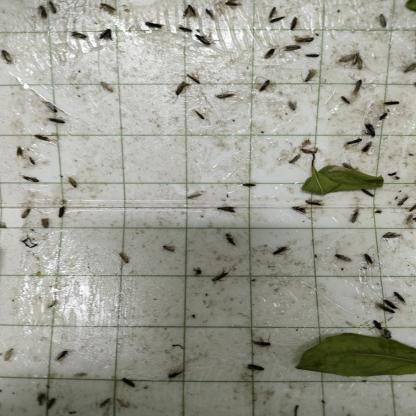prays_oleae: (250, 322, 272, 354), (17, 168, 46, 188), (169, 365, 191, 391), (337, 245, 355, 274), (144, 17, 165, 41), (36, 91, 60, 112), (270, 239, 291, 263), (120, 366, 135, 398), (344, 130, 366, 151), (173, 74, 190, 101), (243, 358, 268, 376), (344, 44, 364, 66), (117, 248, 135, 272), (214, 85, 235, 105), (187, 65, 201, 94), (258, 75, 274, 99), (217, 198, 237, 217), (66, 171, 80, 198), (363, 116, 381, 137), (212, 266, 229, 288), (399, 56, 416, 78), (160, 239, 176, 262), (94, 2, 118, 17), (43, 390, 61, 410), (284, 41, 305, 58), (30, 130, 52, 146), (363, 244, 376, 271), (350, 73, 364, 98), (382, 293, 396, 318), (240, 175, 259, 193), (100, 28, 118, 46), (393, 282, 407, 305), (294, 30, 314, 46), (55, 343, 70, 364), (382, 231, 403, 246), (56, 200, 68, 226), (306, 194, 322, 213), (175, 19, 190, 39), (376, 10, 390, 31), (292, 202, 308, 220), (1, 46, 12, 72), (43, 113, 68, 124), (397, 188, 408, 213), (349, 206, 362, 227), (194, 35, 212, 50), (226, 224, 236, 250), (300, 141, 315, 158), (384, 94, 398, 112), (286, 149, 300, 167), (98, 394, 115, 408), (15, 208, 36, 219), (341, 91, 352, 112), (290, 13, 300, 36), (40, 216, 52, 235), (36, 6, 49, 23), (66, 30, 86, 41), (260, 46, 276, 59), (224, 2, 241, 14), (47, 2, 59, 19), (361, 142, 374, 156), (376, 112, 391, 124), (267, 7, 277, 24), (374, 317, 386, 331), (269, 13, 285, 22), (205, 8, 214, 19)
